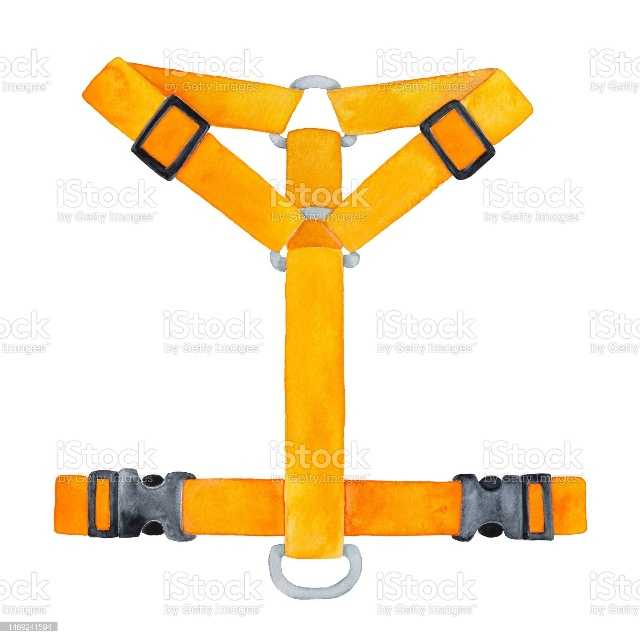Arnes_seguridad: (43, 37, 604, 611)
